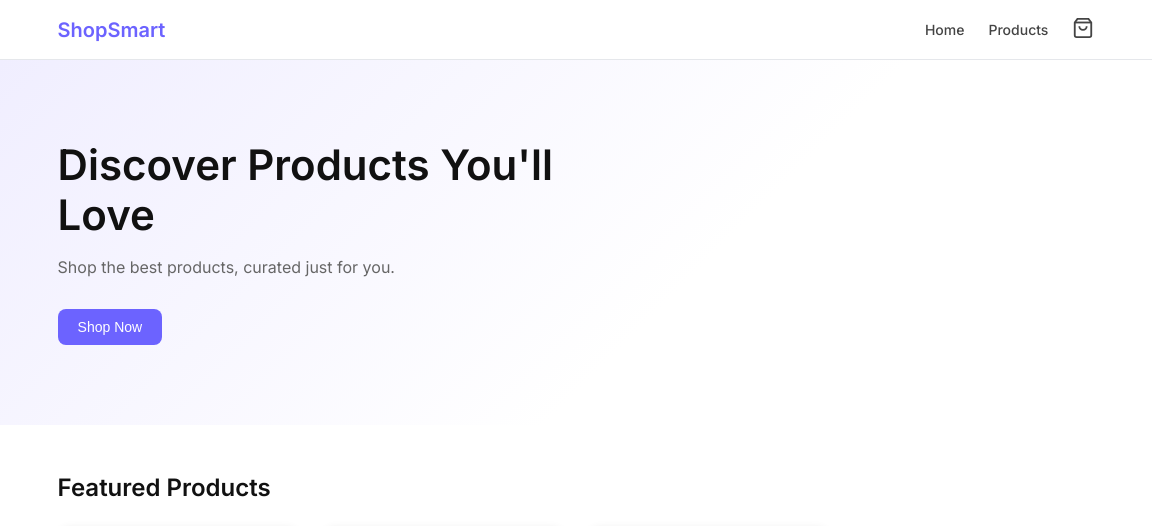
Test: App › opens cart drawer from cart icon click
This screenshot has width=1152, height=526.
Click the link with class "cart-link".
click(1083, 30)  # box [1072, 17, 1094, 42]
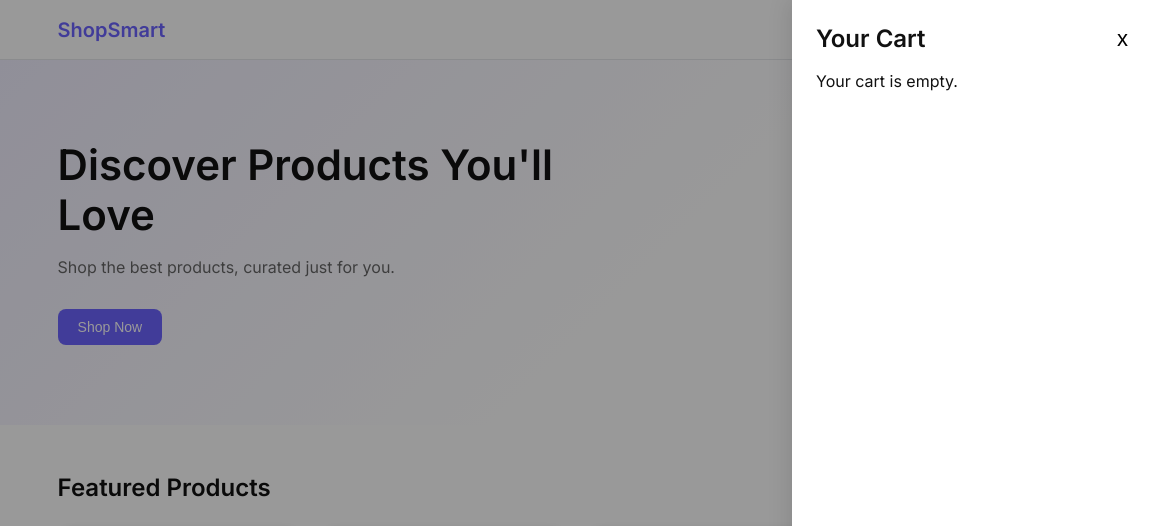
expect the heading "Your Cart" is shown: met, box [816, 24, 926, 53]
expect the text "Your cart is empty." is shown: met, box [816, 71, 958, 91]
